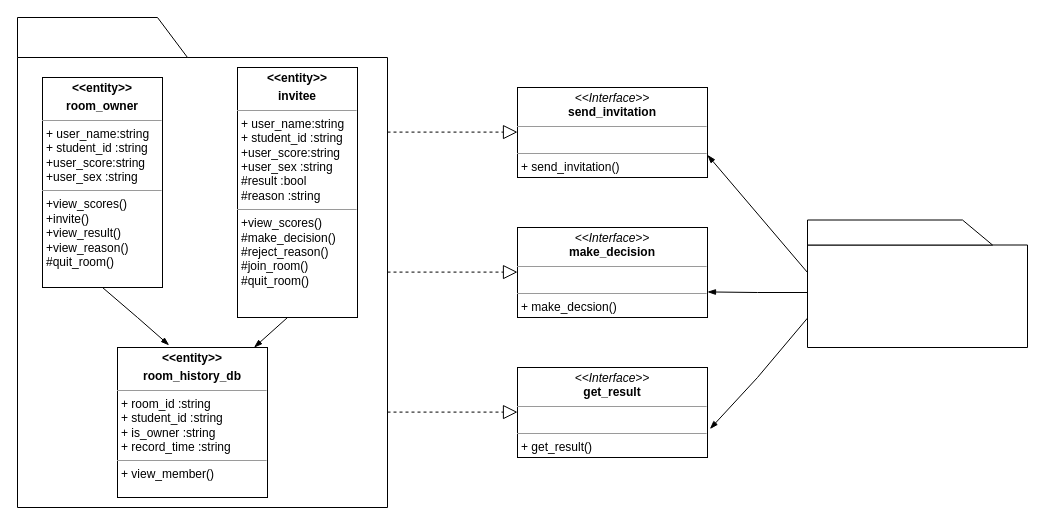
This 1045x525 diagram has some shape labels left out. The box of each missing label's shape, as (x1, y1, x2, y2) in pixels:
invitation_subsystem: (16, 16, 188, 58)
room_manage_subsystem: (806, 219, 992, 245)
